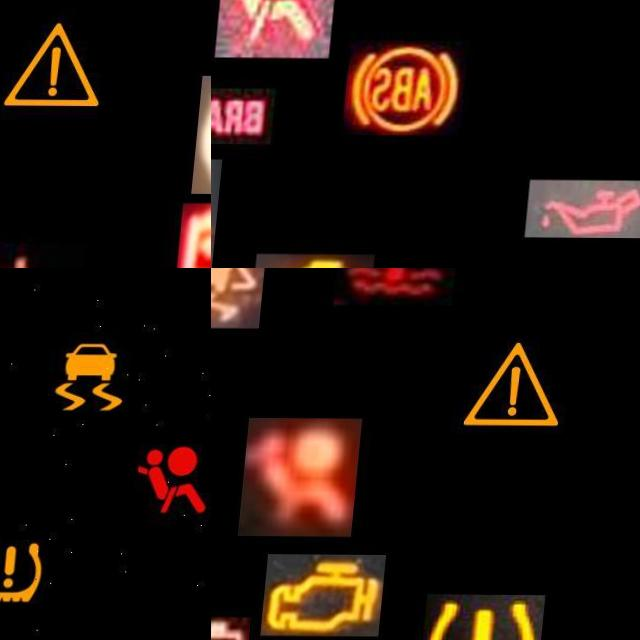Central Warning lamp: (456, 324, 583, 443), (0, 4, 120, 123)
Engine cooling system: (336, 268, 462, 305)
